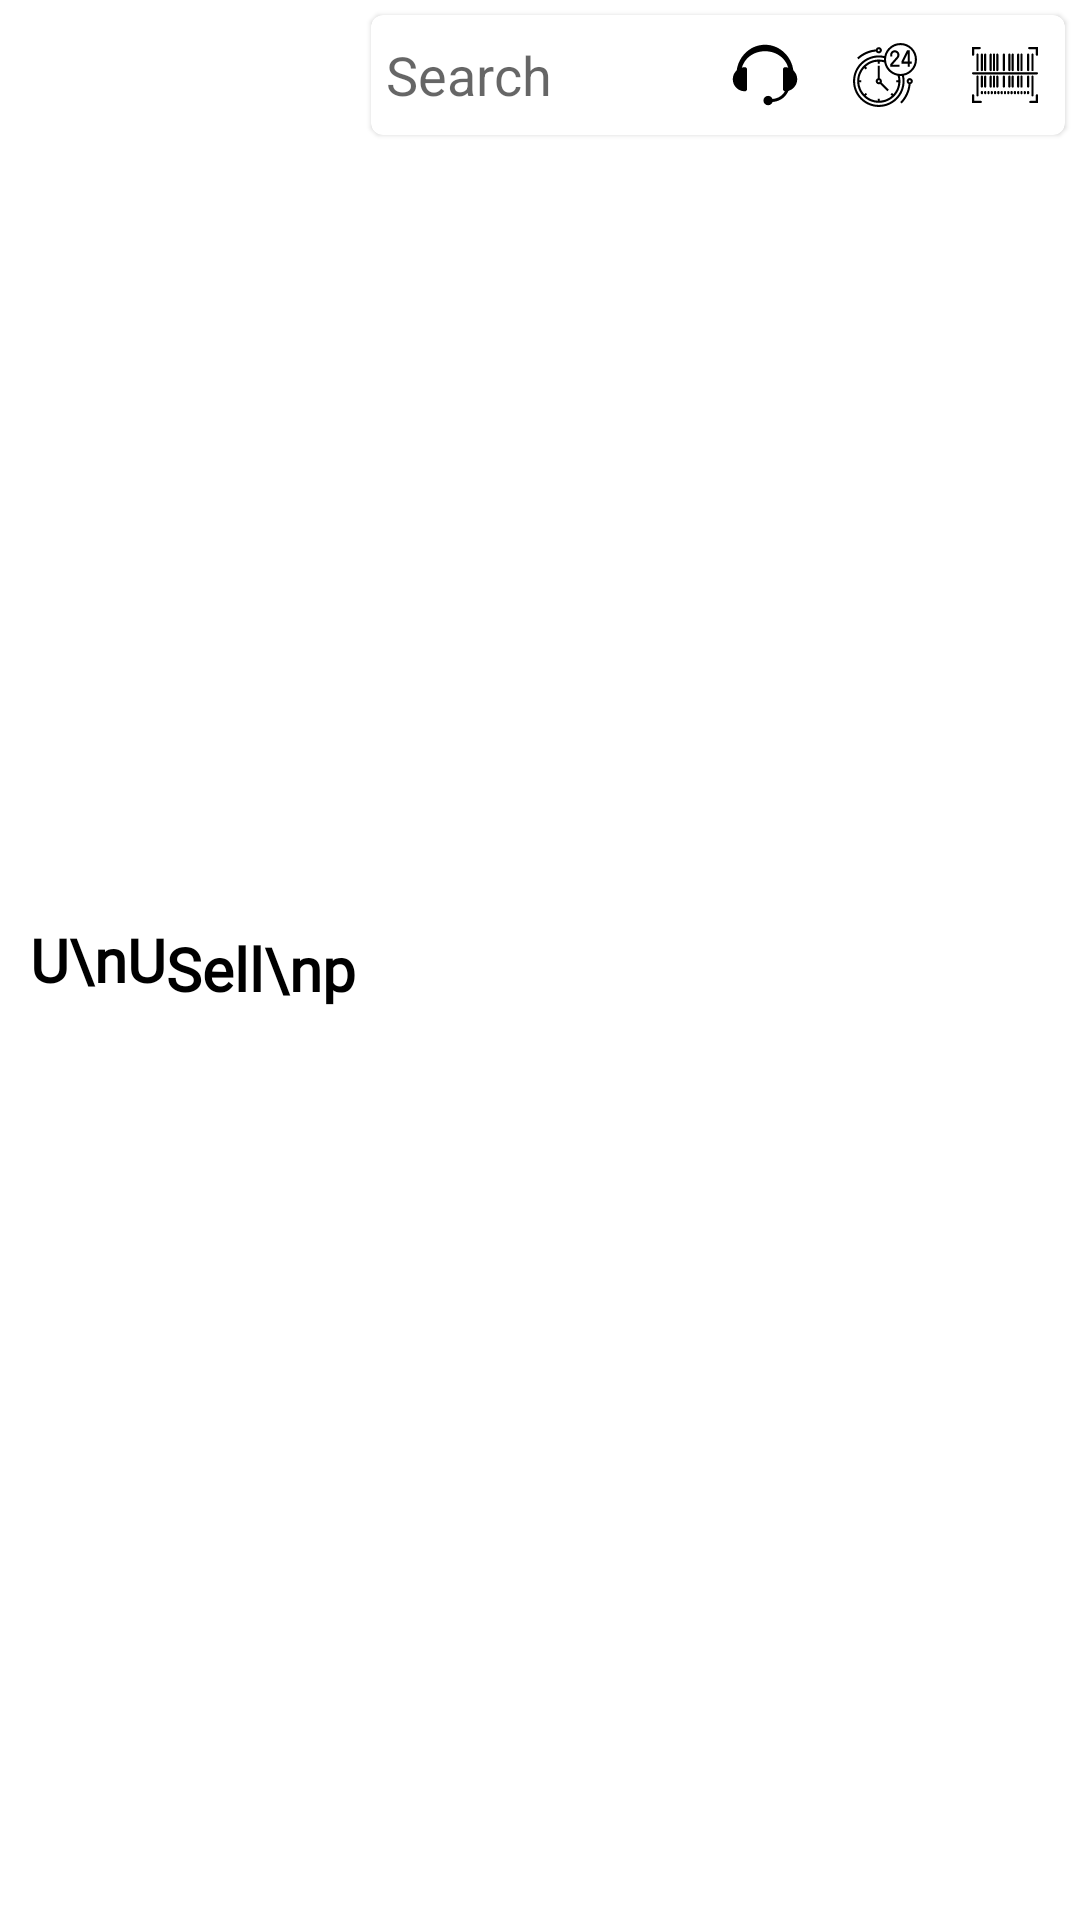

Named icons in this screenshot (1080 × 1920) and their bounding boxes, (x1, y1, x2, y2):
bar code: (972, 22, 1065, 128)
head phone: (732, 44, 798, 106)
